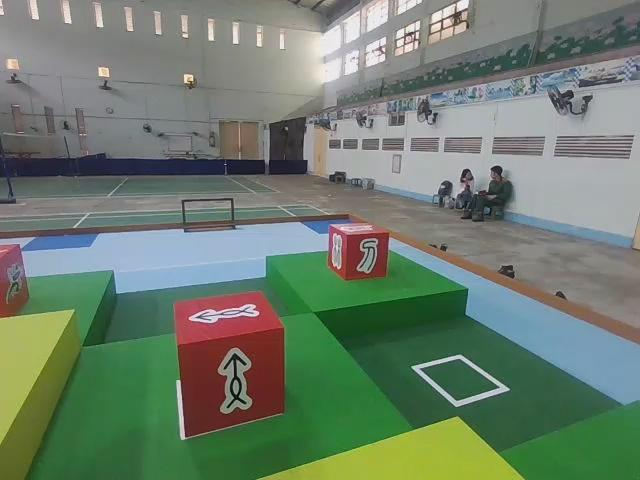R1: (0, 238, 33, 321)
R2 Fake: (326, 220, 390, 282)
R2 Real: (173, 290, 286, 439)
